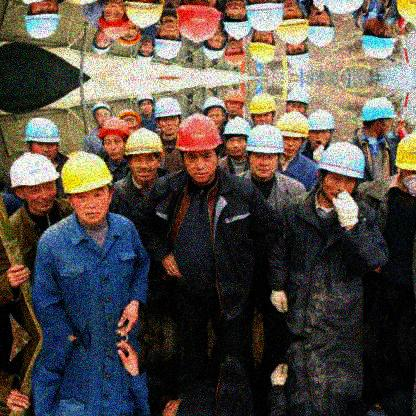helmet: (61, 153, 112, 226), (9, 153, 59, 215), (179, 116, 221, 186), (318, 142, 366, 201), (248, 127, 283, 182), (124, 128, 161, 180), (23, 1, 62, 41), (361, 18, 397, 60), (360, 97, 397, 137), (27, 118, 61, 161), (277, 1, 308, 45), (396, 130, 416, 196), (279, 114, 307, 160), (307, 2, 335, 48), (100, 118, 127, 160), (309, 109, 336, 150), (101, 1, 130, 39), (155, 21, 183, 59), (155, 98, 182, 137), (222, 1, 250, 37), (222, 119, 247, 158), (250, 31, 278, 65), (250, 94, 277, 126), (224, 37, 249, 69), (205, 28, 225, 60), (286, 88, 309, 112), (92, 29, 112, 56), (286, 45, 308, 68), (91, 102, 111, 126), (225, 91, 245, 115), (139, 40, 156, 66), (137, 94, 154, 116)
